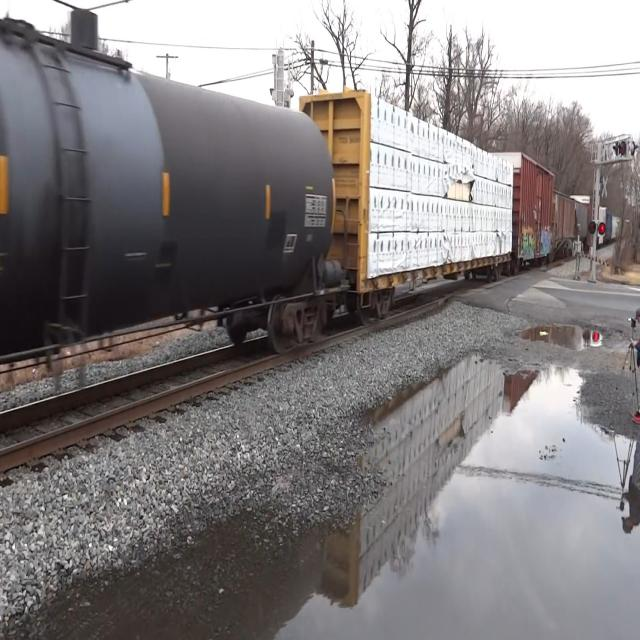boxcar: (514, 148, 560, 274)
flatcar_bulkhead: (298, 84, 519, 322)
tank: (0, 0, 343, 398)
